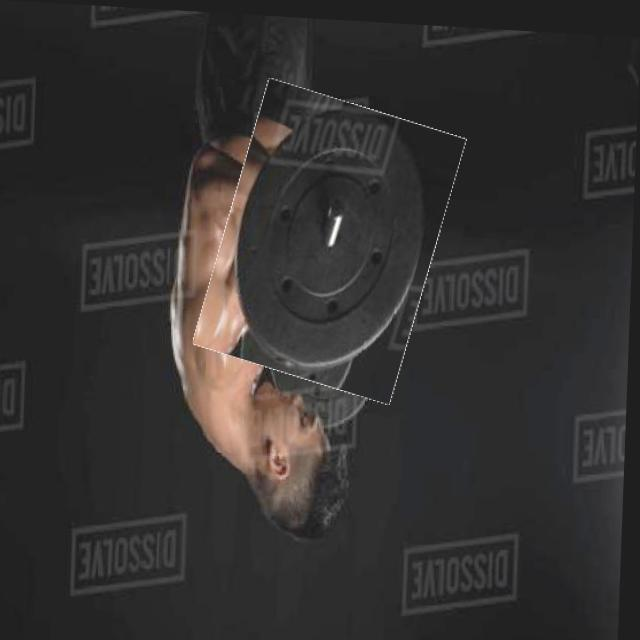barbell: (210, 83, 454, 393)
